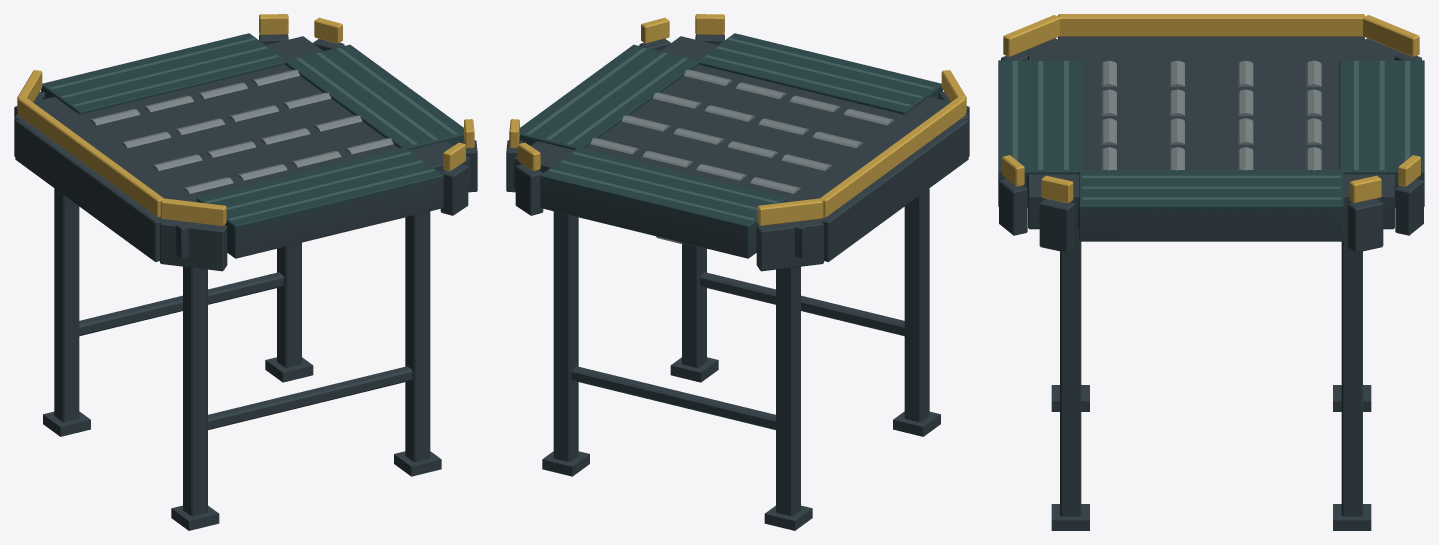
File: conveyor-diverter.glb
3 views of the same model, side by side, from view 1: azimuth 30°, elevation 25°; view 2: azimuth 150°, elevation 25°; view 3: azimuth 270°, elevation 25° (orthographic). The views are drawn at different scales.
Parts seen in each view (by area): view 1: conveyor-diverter__material_01, conveyor-diverter__material_04, conveyor-diverter__material_02, conveyor-diverter__material_03, conveyor-diverter__material_00; view 2: conveyor-diverter__material_01, conveyor-diverter__material_04, conveyor-diverter__material_02, conveyor-diverter__material_03, conveyor-diverter__material_00; view 3: conveyor-diverter__material_01, conveyor-diverter__material_04, conveyor-diverter__material_02, conveyor-diverter__material_03, conveyor-diverter__material_00.
Part boxes in pixels (left/top/right/bottom): conveyor-diverter__material_01: left=14, top=34, right=477, bottom=530; conveyor-diverter__material_04: left=41, top=33, right=464, bottom=248; conveyor-diverter__material_02: left=17, top=14, right=474, bottom=225; conveyor-diverter__material_03: left=89, top=69, right=393, bottom=193; conveyor-diverter__material_00: left=50, top=38, right=457, bottom=220; conveyor-diverter__material_01: left=506, top=34, right=969, bottom=530; conveyor-diverter__material_04: left=519, top=33, right=942, bottom=248; conveyor-diverter__material_02: left=509, top=14, right=966, bottom=225; conveyor-diverter__material_03: left=590, top=69, right=894, bottom=244; conveyor-diverter__material_00: left=526, top=38, right=933, bottom=220; conveyor-diverter__material_01: left=998, top=36, right=1424, bottom=530; conveyor-diverter__material_04: left=998, top=60, right=1424, bottom=230; conveyor-diverter__material_02: left=1002, top=14, right=1420, bottom=203; conveyor-diverter__material_03: left=1101, top=60, right=1321, bottom=170; conveyor-diverter__material_00: left=1012, top=61, right=1410, bottom=199.
Size of the model in its own units: 0.967 by 0.95 by 1.
